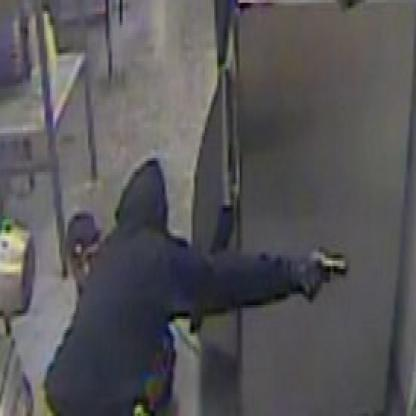gun: (298, 236, 356, 310)
